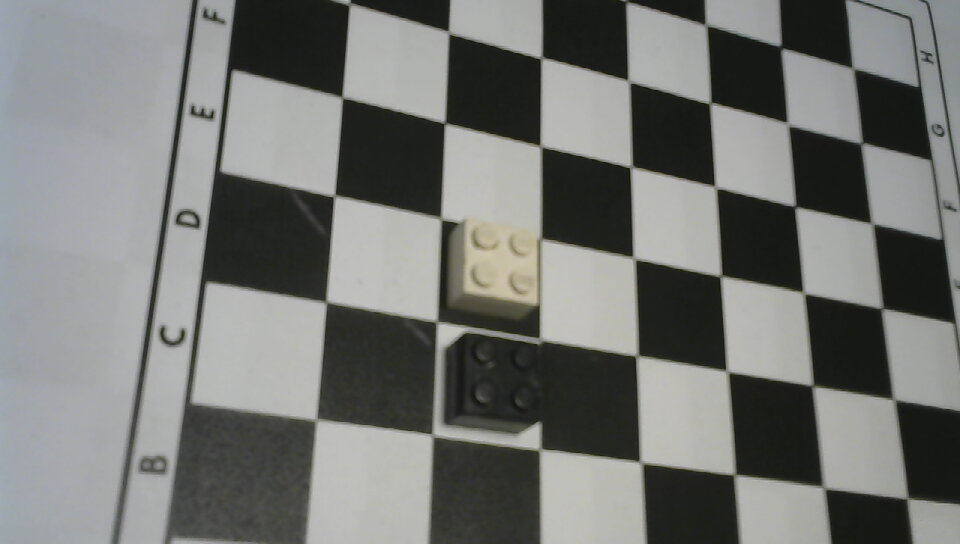wp: (442, 213, 546, 329)
